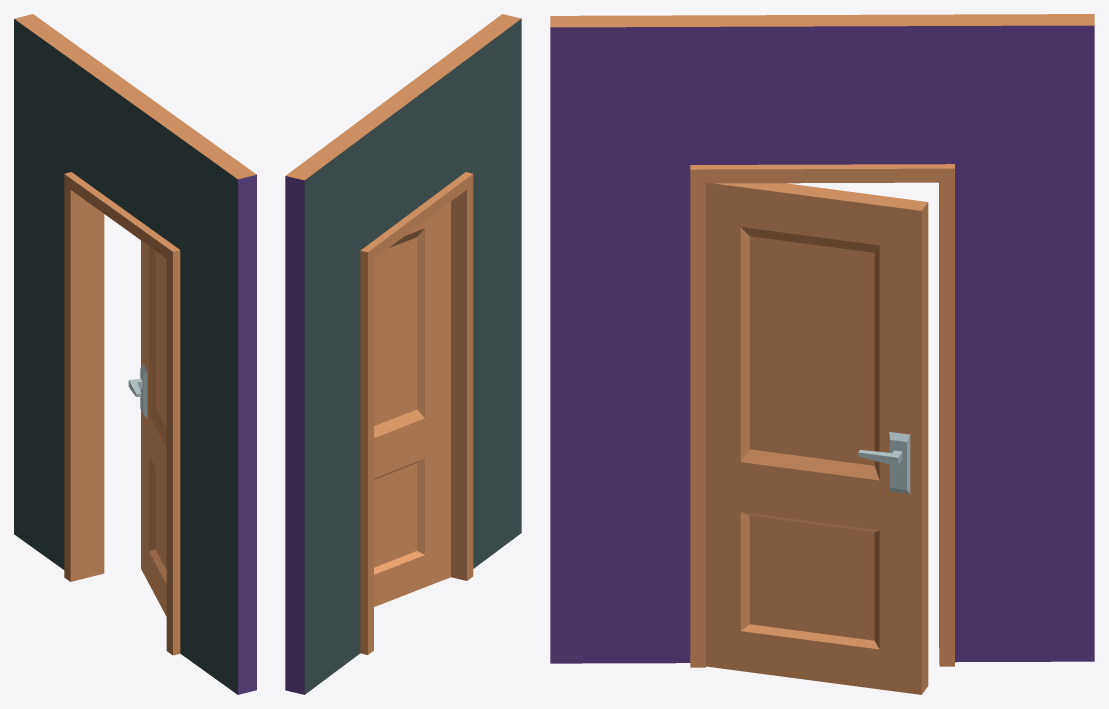
File: porte6.glb
3 renders of one model, left to right at view 1: azimuth 30°, elevation 25°; view 2: azimuth 150°, elevation 25°; view 3: azimuth 270°, elevation 25°, orthographic. The views are drawn at different scales.
Parts seen in each view (by area): view 1: wallDoorway, door; view 2: wallDoorway, door; view 3: wallDoorway, door.
Part boxes in pixels (left/top/right/bottom): wallDoorway: left=14, top=14, right=256, bottom=694; door: left=128, top=240, right=166, bottom=616; wallDoorway: left=285, top=14, right=521, bottom=694; door: left=374, top=202, right=450, bottom=606; wallDoorway: left=550, top=14, right=1094, bottom=667; door: left=706, top=183, right=928, bottom=694.
Bounding box in the file's own units: 0.2369 × 1.29 × 1.
